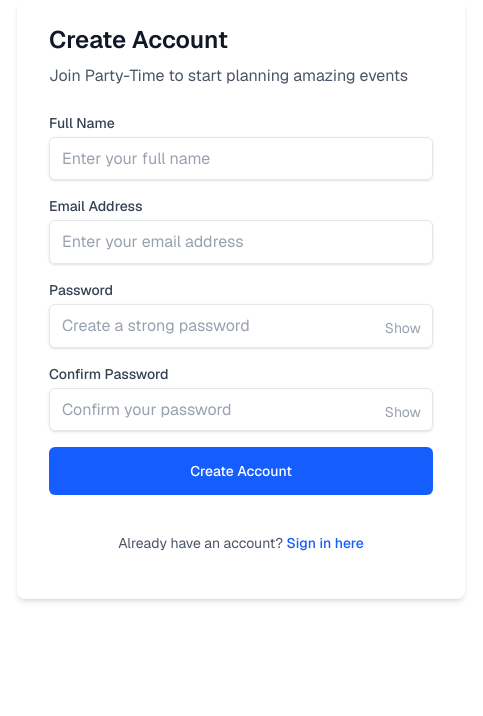
Test: RegisterForm › shows validation error for password without uppercase
Type "password123!" into the password field labelled "Password". click: (241, 326)
box: [49,304,433,348]
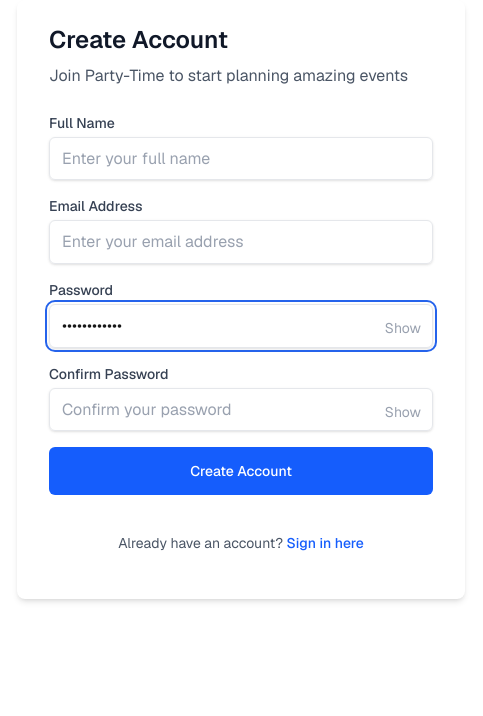
Click the button "Create Account". click: (241, 471)
box: [49,447,433,495]
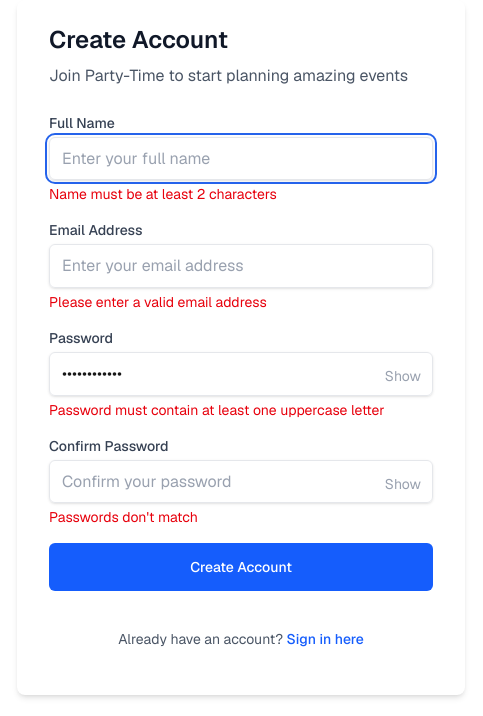
Result: the text "Password must contain at least one uppercase letter" is shown at [49,400,433,420]
